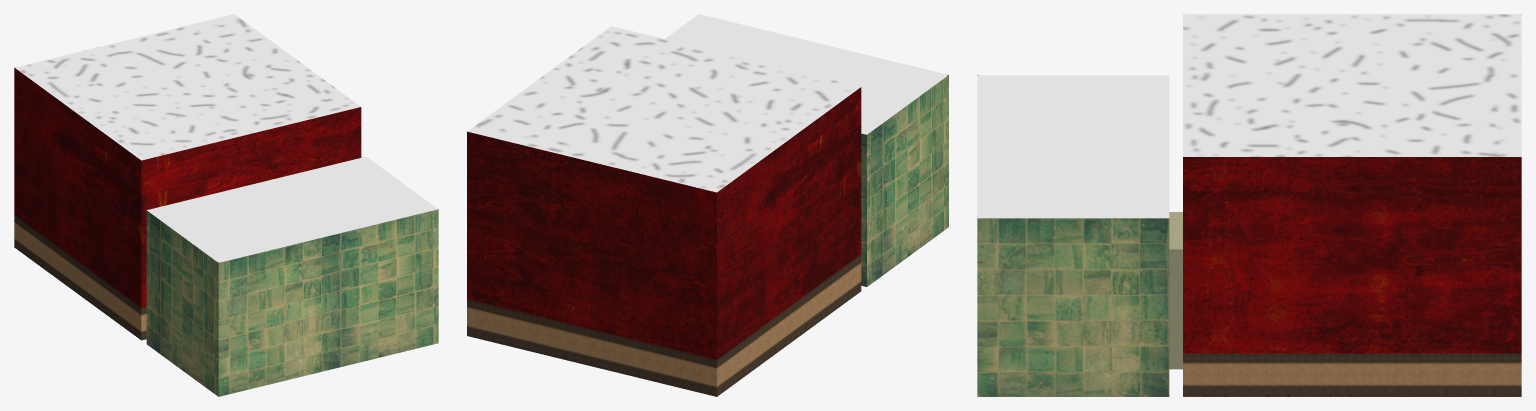
Rendered from Room.dae.
The picture shows the model from 3 angles, left to right: view 1: azimuth 30°, elevation 25°; view 2: azimuth 150°, elevation 25°; view 3: azimuth 270°, elevation 25°; orthographic projection. The views are drawn at different scales.
Parts seen in each view (by area): view 1: Room; view 2: Room; view 3: Room.
Part boxes in pixels (x1,y1,x2,y2): Room: (14, 14, 438, 396); Room: (467, 14, 948, 396); Room: (977, 14, 1521, 396).
Size of the model in its own units: 12 by 19.29 by 9.38.
1 material, 1 textured.
